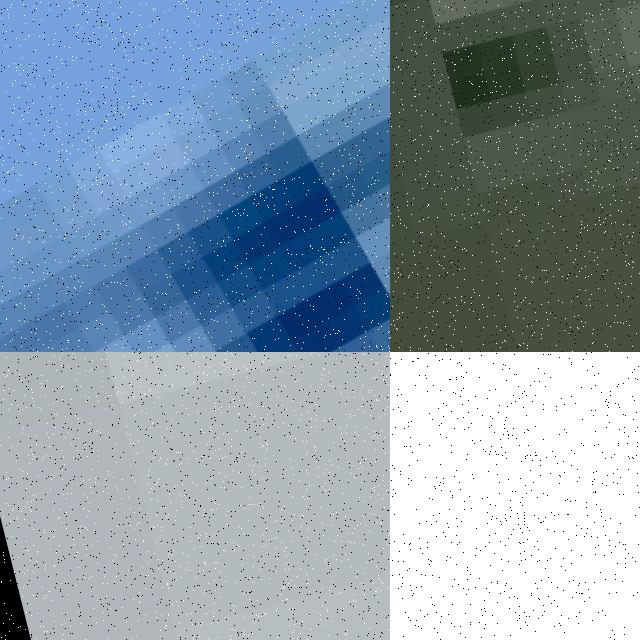drone: (0, 0, 390, 352), (390, 536, 640, 640)
